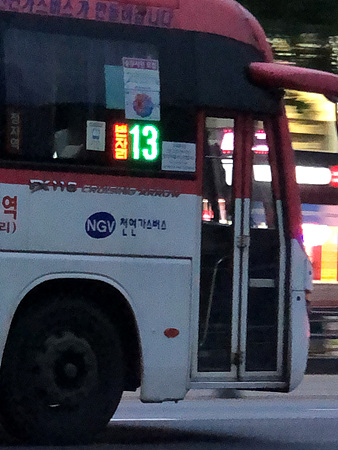entrance: (200, 103, 291, 382)
